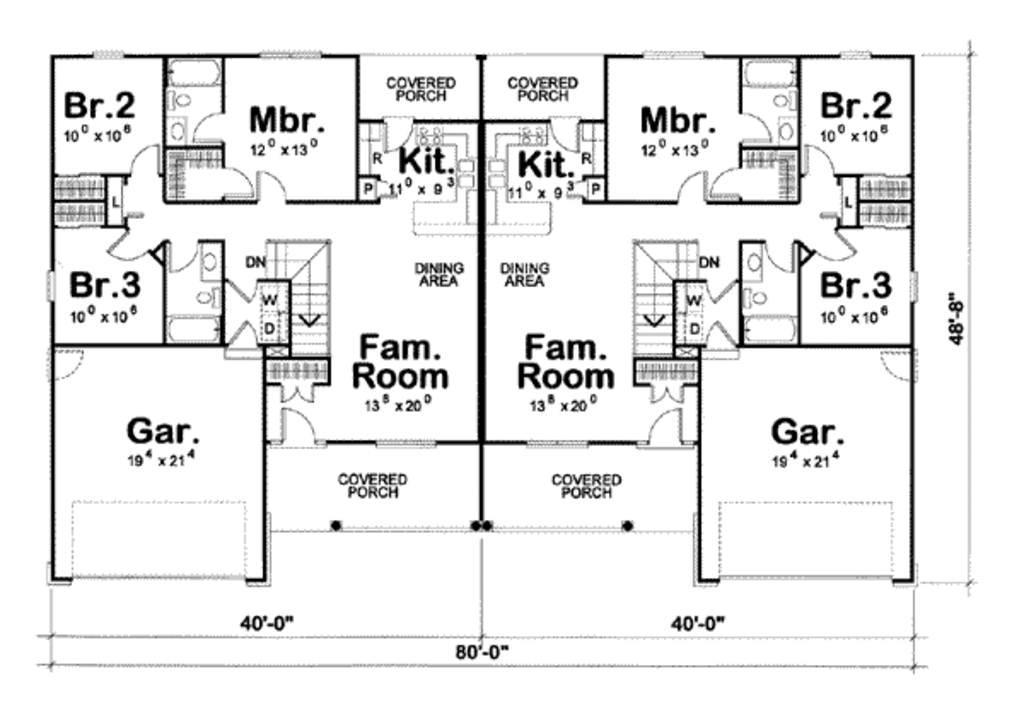door: (795, 224, 861, 269), (634, 403, 694, 450), (268, 400, 326, 445), (42, 340, 89, 386), (878, 342, 923, 386), (548, 110, 587, 159), (103, 223, 150, 262), (671, 167, 713, 209), (120, 137, 161, 179), (223, 312, 256, 361), (378, 109, 414, 153), (802, 142, 842, 179), (192, 109, 229, 148), (710, 166, 748, 202), (258, 167, 294, 203), (218, 164, 252, 198), (226, 272, 258, 307), (744, 111, 777, 144), (169, 242, 198, 279), (273, 381, 319, 403), (764, 236, 791, 273), (642, 381, 687, 403)
large_sink: (162, 84, 195, 114), (767, 87, 803, 112), (189, 284, 220, 309), (738, 286, 769, 311)
small_sink: (162, 113, 195, 146), (741, 242, 764, 281), (779, 109, 799, 152)
stairs: (257, 235, 336, 358), (631, 236, 703, 358)
tub: (160, 50, 230, 89), (162, 315, 224, 345), (742, 52, 797, 85), (745, 314, 800, 342)
twin_sink: (483, 153, 514, 197), (450, 156, 479, 192)
window: (524, 434, 591, 451), (256, 46, 323, 63), (373, 436, 440, 450), (838, 43, 873, 63), (87, 45, 127, 62), (907, 264, 923, 306)
